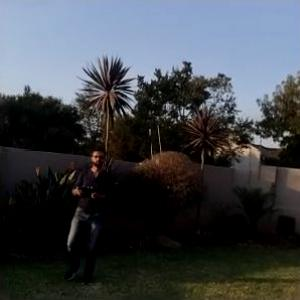follow: (50, 148, 109, 296)
